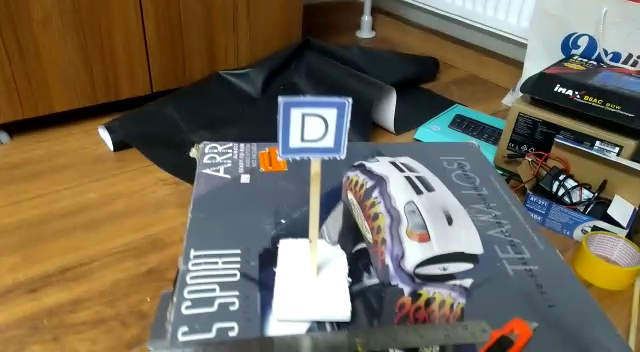durak: (278, 99, 349, 155)
